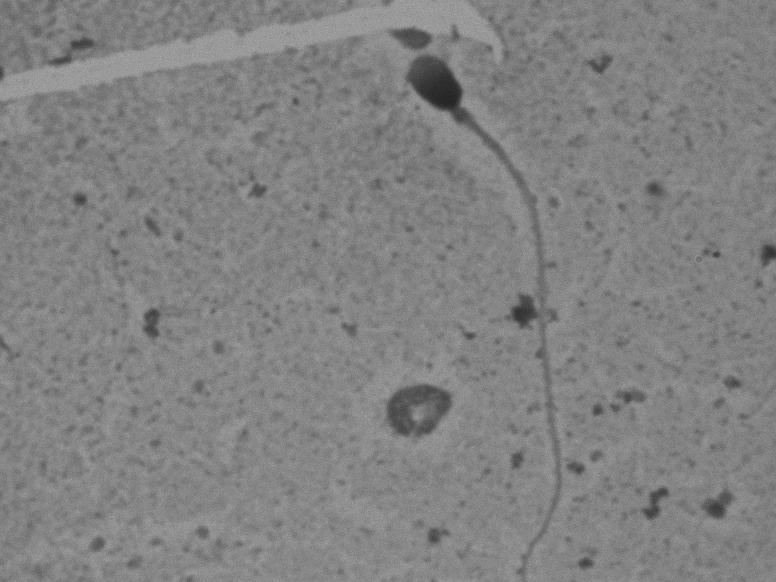Normal: (383, 48, 584, 571)
